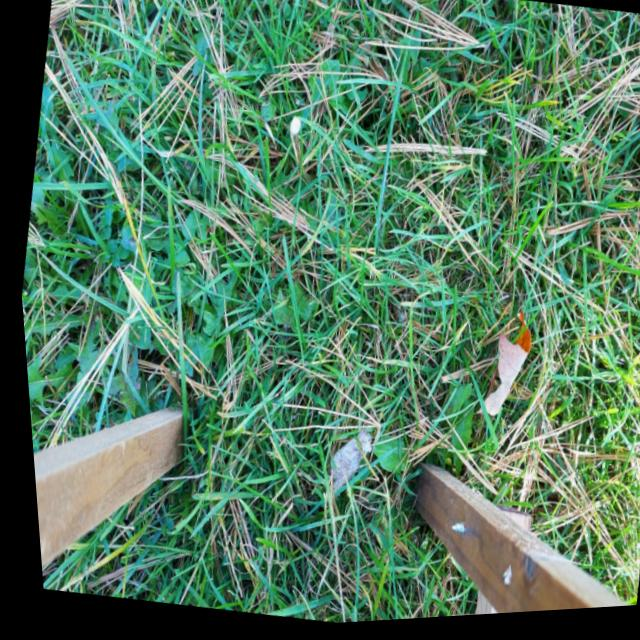base: (299, 170, 318, 200)
flower: (279, 111, 303, 148)
